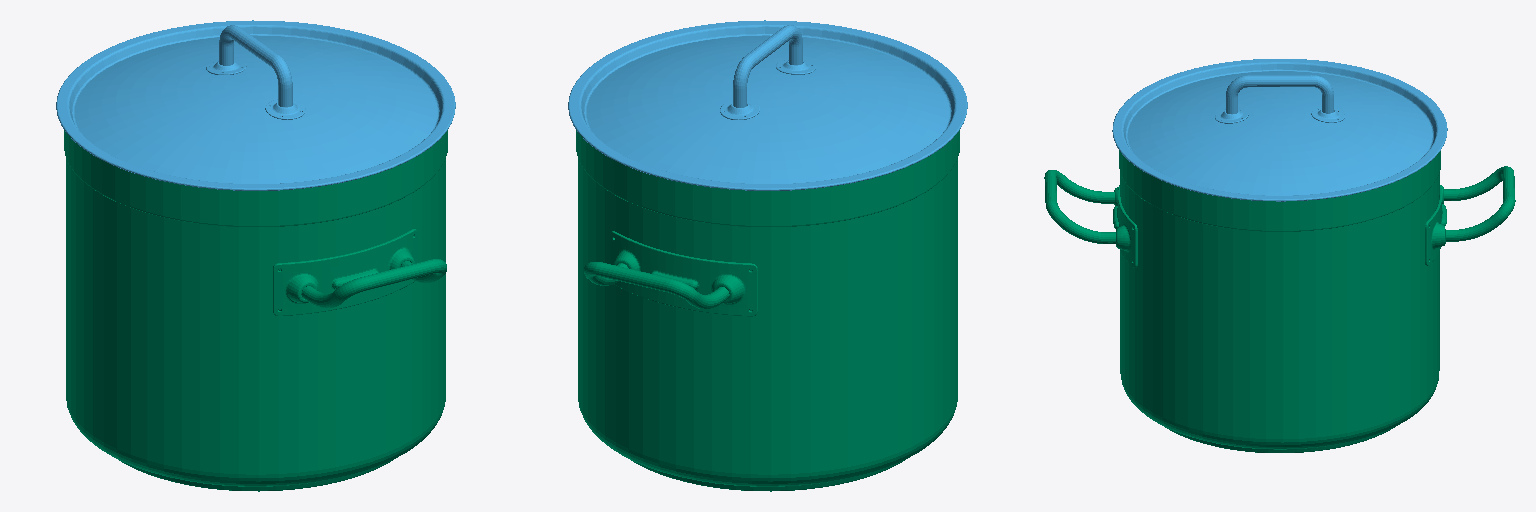
robot.urdf — partnet_uf08b086a-5d74-495d-ad50-8c0daa97c679:
<?xml version="1.0" ?>
<robot name="partnet_uf08b086a-5d74-495d-ad50-8c0daa97c679">
	<link name="base"/>
	<link name="link_0">
		<visual name="lid-1">
			<origin xyz="-0.0 -0.0 -0.0"/>
			<geometry>
				<mesh filename="textured_objs/original-21.obj"/>
			</geometry>
		</visual>
		<visual name="lid-1">
			<origin xyz="-0.0 -0.0 -0.0"/>
			<geometry>
				<mesh filename="textured_objs/original-2.obj"/>
			</geometry>
		</visual>
		<visual name="lid-1">
			<origin xyz="-0.0 -0.0 -0.0"/>
			<geometry>
				<mesh filename="textured_objs/original-20.obj"/>
			</geometry>
		</visual>
		<visual name="lid-1">
			<origin xyz="-0.0 -0.0 -0.0"/>
			<geometry>
				<mesh filename="textured_objs/original-8.obj"/>
			</geometry>
		</visual>
		<visual name="lid-1">
			<origin xyz="-0.0 -0.0 -0.0"/>
			<geometry>
				<mesh filename="textured_objs/original-4.obj"/>
			</geometry>
		</visual>
		<visual name="lid-1">
			<origin xyz="-0.0 -0.0 -0.0"/>
			<geometry>
				<mesh filename="textured_objs/original-7.obj"/>
			</geometry>
		</visual>
		<visual name="lid-1">
			<origin xyz="-0.0 -0.0 -0.0"/>
			<geometry>
				<mesh filename="textured_objs/original-3.obj"/>
			</geometry>
		</visual>
		<visual name="lid-1">
			<origin xyz="-0.0 -0.0 -0.0"/>
			<geometry>
				<mesh filename="textured_objs/original-10.obj"/>
			</geometry>
		</visual>
		<visual name="lid-1">
			<origin xyz="-0.0 -0.0 -0.0"/>
			<geometry>
				<mesh filename="textured_objs/original-6.obj"/>
			</geometry>
		</visual>
		<visual name="lid-1">
			<origin xyz="-0.0 -0.0 -0.0"/>
			<geometry>
				<mesh filename="textured_objs/original-9.obj"/>
			</geometry>
		</visual>
		<visual name="lid-1">
			<origin xyz="-0.0 -0.0 -0.0"/>
			<geometry>
				<mesh filename="textured_objs/original-5.obj"/>
			</geometry>
		</visual>
		<visual name="lid-1">
			<origin xyz="-0.0 -0.0 -0.0"/>
			<geometry>
				<mesh filename="textured_objs/original-11.obj"/>
			</geometry>
		</visual>
		<visual name="lid-1">
			<origin xyz="-0.0 -0.0 -0.0"/>
			<geometry>
				<mesh filename="textured_objs/original-12.obj"/>
			</geometry>
		</visual>
		<visual name="lid-1">
			<origin xyz="-0.0 -0.0 -0.0"/>
			<geometry>
				<mesh filename="textured_objs/original-16.obj"/>
			</geometry>
		</visual>
		<visual name="lid-1">
			<origin xyz="-0.0 -0.0 -0.0"/>
			<geometry>
				<mesh filename="textured_objs/original-13.obj"/>
			</geometry>
		</visual>
		<visual name="lid-1">
			<origin xyz="-0.0 -0.0 -0.0"/>
			<geometry>
				<mesh filename="textured_objs/original-17.obj"/>
			</geometry>
		</visual>
		<visual name="lid-1">
			<origin xyz="-0.0 -0.0 -0.0"/>
			<geometry>
				<mesh filename="textured_objs/original-18.obj"/>
			</geometry>
		</visual>
		<visual name="lid-1">
			<origin xyz="-0.0 -0.0 -0.0"/>
			<geometry>
				<mesh filename="textured_objs/original-14.obj"/>
			</geometry>
		</visual>
		<visual name="lid-1">
			<origin xyz="-0.0 -0.0 -0.0"/>
			<geometry>
				<mesh filename="textured_objs/original-19.obj"/>
			</geometry>
		</visual>
		<visual name="lid-1">
			<origin xyz="-0.0 -0.0 -0.0"/>
			<geometry>
				<mesh filename="textured_objs/original-15.obj"/>
			</geometry>
		</visual>
		<visual name="lid-1">
			<origin xyz="-0.0 -0.0 -0.0"/>
			<geometry>
				<mesh filename="textured_objs/original-23.obj"/>
			</geometry>
		</visual>
		<visual name="lid-1">
			<origin xyz="-0.0 -0.0 -0.0"/>
			<geometry>
				<mesh filename="textured_objs/original-22.obj"/>
			</geometry>
		</visual>
		<collision>
			<origin xyz="-0.0 -0.0 -0.0"/>
			<geometry>
				<mesh filename="textured_objs/original-21.obj"/>
			</geometry>
		</collision>
		<collision>
			<origin xyz="-0.0 -0.0 -0.0"/>
			<geometry>
				<mesh filename="textured_objs/original-2.obj"/>
			</geometry>
		</collision>
		<collision>
			<origin xyz="-0.0 -0.0 -0.0"/>
			<geometry>
				<mesh filename="textured_objs/original-20.obj"/>
			</geometry>
		</collision>
		<collision>
			<origin xyz="-0.0 -0.0 -0.0"/>
			<geometry>
				<mesh filename="textured_objs/original-8.obj"/>
			</geometry>
		</collision>
		<collision>
			<origin xyz="-0.0 -0.0 -0.0"/>
			<geometry>
				<mesh filename="textured_objs/original-4.obj"/>
			</geometry>
		</collision>
		<collision>
			<origin xyz="-0.0 -0.0 -0.0"/>
			<geometry>
				<mesh filename="textured_objs/original-7.obj"/>
			</geometry>
		</collision>
		<collision>
			<origin xyz="-0.0 -0.0 -0.0"/>
			<geometry>
				<mesh filename="textured_objs/original-3.obj"/>
			</geometry>
		</collision>
		<collision>
			<origin xyz="-0.0 -0.0 -0.0"/>
			<geometry>
				<mesh filename="textured_objs/original-10.obj"/>
			</geometry>
		</collision>
		<collision>
			<origin xyz="-0.0 -0.0 -0.0"/>
			<geometry>
				<mesh filename="textured_objs/original-6.obj"/>
			</geometry>
		</collision>
		<collision>
			<origin xyz="-0.0 -0.0 -0.0"/>
			<geometry>
				<mesh filename="textured_objs/original-9.obj"/>
			</geometry>
		</collision>
		<collision>
			<origin xyz="-0.0 -0.0 -0.0"/>
			<geometry>
				<mesh filename="textured_objs/original-5.obj"/>
			</geometry>
		</collision>
		<collision>
			<origin xyz="-0.0 -0.0 -0.0"/>
			<geometry>
				<mesh filename="textured_objs/original-11.obj"/>
			</geometry>
		</collision>
		<collision>
			<origin xyz="-0.0 -0.0 -0.0"/>
			<geometry>
				<mesh filename="textured_objs/original-12.obj"/>
			</geometry>
		</collision>
		<collision>
			<origin xyz="-0.0 -0.0 -0.0"/>
			<geometry>
				<mesh filename="textured_objs/original-16.obj"/>
			</geometry>
		</collision>
		<collision>
			<origin xyz="-0.0 -0.0 -0.0"/>
			<geometry>
				<mesh filename="textured_objs/original-13.obj"/>
			</geometry>
		</collision>
		<collision>
			<origin xyz="-0.0 -0.0 -0.0"/>
			<geometry>
				<mesh filename="textured_objs/original-17.obj"/>
			</geometry>
		</collision>
		<collision>
			<origin xyz="-0.0 -0.0 -0.0"/>
			<geometry>
				<mesh filename="textured_objs/original-18.obj"/>
			</geometry>
		</collision>
		<collision>
			<origin xyz="-0.0 -0.0 -0.0"/>
			<geometry>
				<mesh filename="textured_objs/original-14.obj"/>
			</geometry>
		</collision>
		<collision>
			<origin xyz="-0.0 -0.0 -0.0"/>
			<geometry>
				<mesh filename="textured_objs/original-19.obj"/>
			</geometry>
		</collision>
		<collision>
			<origin xyz="-0.0 -0.0 -0.0"/>
			<geometry>
				<mesh filename="textured_objs/original-15.obj"/>
			</geometry>
		</collision>
		<collision>
			<origin xyz="-0.0 -0.0 -0.0"/>
			<geometry>
				<mesh filename="textured_objs/original-23.obj"/>
			</geometry>
		</collision>
		<collision>
			<origin xyz="-0.0 -0.0 -0.0"/>
			<geometry>
				<mesh filename="textured_objs/original-22.obj"/>
			</geometry>
		</collision>
	</link>
	<joint name="joint_0" type="prismatic">
		<origin xyz="0.0 0.0 0.0"/>
		<axis xyz="0.0 0.99999999635058 0.0"/>
		<child link="link_0"/>
		<parent link="link_1"/>
		<limit lower="0" upper="0.05"/>
	</joint>
	<link name="link_1">
		<visual name="base_body-2">
			<origin xyz="0 0 0"/>
			<geometry>
				<mesh filename="textured_objs/original-29.obj"/>
			</geometry>
		</visual>
		<visual name="base_body-2">
			<origin xyz="0 0 0"/>
			<geometry>
				<mesh filename="textured_objs/original-30.obj"/>
			</geometry>
		</visual>
		<visual name="base_body-2">
			<origin xyz="0 0 0"/>
			<geometry>
				<mesh filename="textured_objs/original-28.obj"/>
			</geometry>
		</visual>
		<visual name="base_body-2">
			<origin xyz="0 0 0"/>
			<geometry>
				<mesh filename="textured_objs/original-26.obj"/>
			</geometry>
		</visual>
		<visual name="base_body-2">
			<origin xyz="0 0 0"/>
			<geometry>
				<mesh filename="textured_objs/original-33.obj"/>
			</geometry>
		</visual>
		<visual name="base_body-2">
			<origin xyz="0 0 0"/>
			<geometry>
				<mesh filename="textured_objs/original-27.obj"/>
			</geometry>
		</visual>
		<visual name="base_body-2">
			<origin xyz="0 0 0"/>
			<geometry>
				<mesh filename="textured_objs/original-31.obj"/>
			</geometry>
		</visual>
		<visual name="base_body-2">
			<origin xyz="0 0 0"/>
			<geometry>
				<mesh filename="textured_objs/original-25.obj"/>
			</geometry>
		</visual>
		<visual name="base_body-2">
			<origin xyz="0 0 0"/>
			<geometry>
				<mesh filename="textured_objs/original-32.obj"/>
			</geometry>
		</visual>
		<collision>
			<origin xyz="0 0 0"/>
			<geometry>
				<mesh filename="textured_objs/original-29.obj"/>
			</geometry>
		</collision>
		<collision>
			<origin xyz="0 0 0"/>
			<geometry>
				<mesh filename="textured_objs/original-30.obj"/>
			</geometry>
		</collision>
		<collision>
			<origin xyz="0 0 0"/>
			<geometry>
				<mesh filename="textured_objs/original-28.obj"/>
			</geometry>
		</collision>
		<collision>
			<origin xyz="0 0 0"/>
			<geometry>
				<mesh filename="textured_objs/original-26.obj"/>
			</geometry>
		</collision>
		<collision>
			<origin xyz="0 0 0"/>
			<geometry>
				<mesh filename="textured_objs/original-33.obj"/>
			</geometry>
		</collision>
		<collision>
			<origin xyz="0 0 0"/>
			<geometry>
				<mesh filename="textured_objs/original-27.obj"/>
			</geometry>
		</collision>
		<collision>
			<origin xyz="0 0 0"/>
			<geometry>
				<mesh filename="textured_objs/original-31.obj"/>
			</geometry>
		</collision>
		<collision>
			<origin xyz="0 0 0"/>
			<geometry>
				<mesh filename="textured_objs/original-25.obj"/>
			</geometry>
		</collision>
		<collision>
			<origin xyz="0 0 0"/>
			<geometry>
				<mesh filename="textured_objs/original-32.obj"/>
			</geometry>
		</collision>
	</link>
	<joint name="joint_1" type="fixed">
		<origin rpy="1.570796326794897 0 -1.570796326794897" xyz="0 0 0"/>
		<child link="link_1"/>
		<parent link="base"/>
	</joint>
</robot>

--- What the picture shows (computed from the rendered views, not written in the file) ---
3 views of the same robot in one strip: view 1: azimuth 30°, elevation 25°; view 2: azimuth 150°, elevation 25°; view 3: azimuth 270°, elevation 25° (orthographic).
Model partnet_uf08b086a-5d74-495d-ad50-8c0daa97c679 with 3 links and 2 joints (1 prismatic, 1 fixed), rooted at base, posed all joints at 0.
Visible links, largest first — view 1: link_1, link_0; view 2: link_1, link_0; view 3: link_1, link_0.
Boxes of the visible links, x1=… form: link_1: x1=64, y1=130, x2=447, y2=491; link_0: x1=56, y1=20, x2=455, y2=190; link_1: x1=576, y1=130, x2=959, y2=491; link_0: x1=568, y1=20, x2=967, y2=190; link_1: x1=1044, y1=150, x2=1515, y2=452; link_0: x1=1112, y1=59, x2=1447, y2=201.
Bounding box of the posed robot: 1.39 × 1.95 × 1.46 m (x, y, z).
31 mesh visuals loaded from 31 distinct referenced files (31 OBJ).